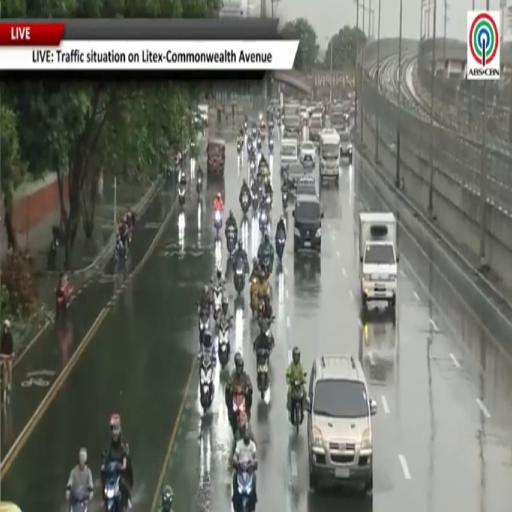car: (308, 355, 377, 491), (293, 195, 323, 252), (280, 138, 298, 168), (286, 162, 306, 188), (296, 175, 317, 196), (299, 141, 316, 166), (339, 131, 352, 163)
motorcycle: (104, 462, 122, 511), (200, 350, 214, 411), (237, 463, 253, 511), (232, 387, 247, 435), (290, 381, 303, 433), (257, 350, 269, 399), (218, 323, 230, 369), (259, 316, 274, 346), (56, 285, 71, 314), (234, 259, 245, 295), (199, 312, 210, 345), (70, 491, 88, 511), (213, 285, 223, 320), (114, 238, 128, 262), (226, 226, 237, 255), (259, 251, 272, 275), (250, 278, 258, 314), (276, 230, 285, 262), (240, 189, 250, 215), (259, 210, 269, 235), (214, 210, 222, 238), (263, 191, 272, 210), (252, 187, 258, 212), (179, 185, 185, 205), (282, 190, 288, 210), (249, 159, 255, 177), (197, 175, 202, 195), (247, 139, 253, 154), (251, 127, 257, 140), (237, 142, 242, 155), (269, 139, 273, 153), (257, 138, 261, 152), (244, 122, 247, 133)
truck: (359, 213, 398, 311), (319, 128, 339, 185), (329, 104, 347, 133), (309, 112, 323, 142)
